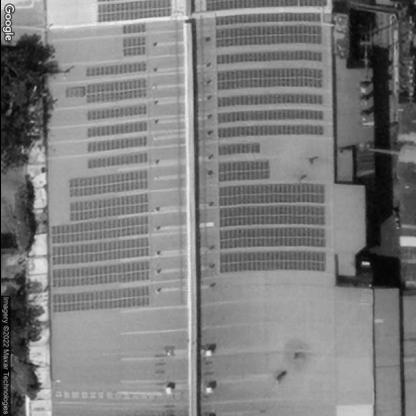solar-pv-panel: (50, 0, 173, 313), (204, 0, 329, 275)
